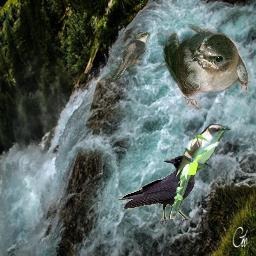Crow: (116, 155, 197, 225)
Cuckoo: (169, 124, 231, 219), (110, 32, 151, 80)
Swallow: (151, 24, 250, 113)
